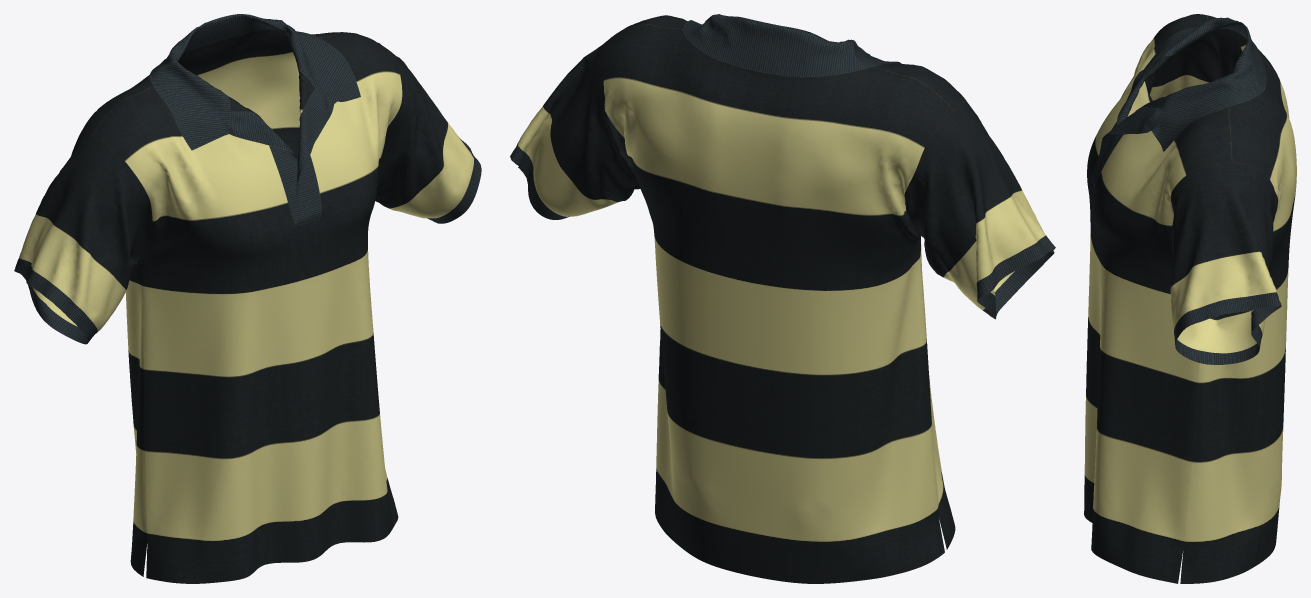
Rendered from t-shirt-yellow.glb.
The picture shows the model from 3 angles, left to right: view 1: azimuth 30°, elevation 25°; view 2: azimuth 150°, elevation 25°; view 3: azimuth 270°, elevation 25°; orthographic projection. The views are drawn at different scales.
Parts seen in each view (by area): view 1: AM_102_035_003; view 2: AM_102_035_003; view 3: AM_102_035_003.
Boxes of the visible parts, <box> form: AM_102_035_003: <box>14,14,481,583</box>; AM_102_035_003: <box>510,14,1055,583</box>; AM_102_035_003: <box>1084,14,1296,583</box>.
Bounding box in the file's own units: 71.86 × 75.6 × 29.33.
1 material, 1 textured.
